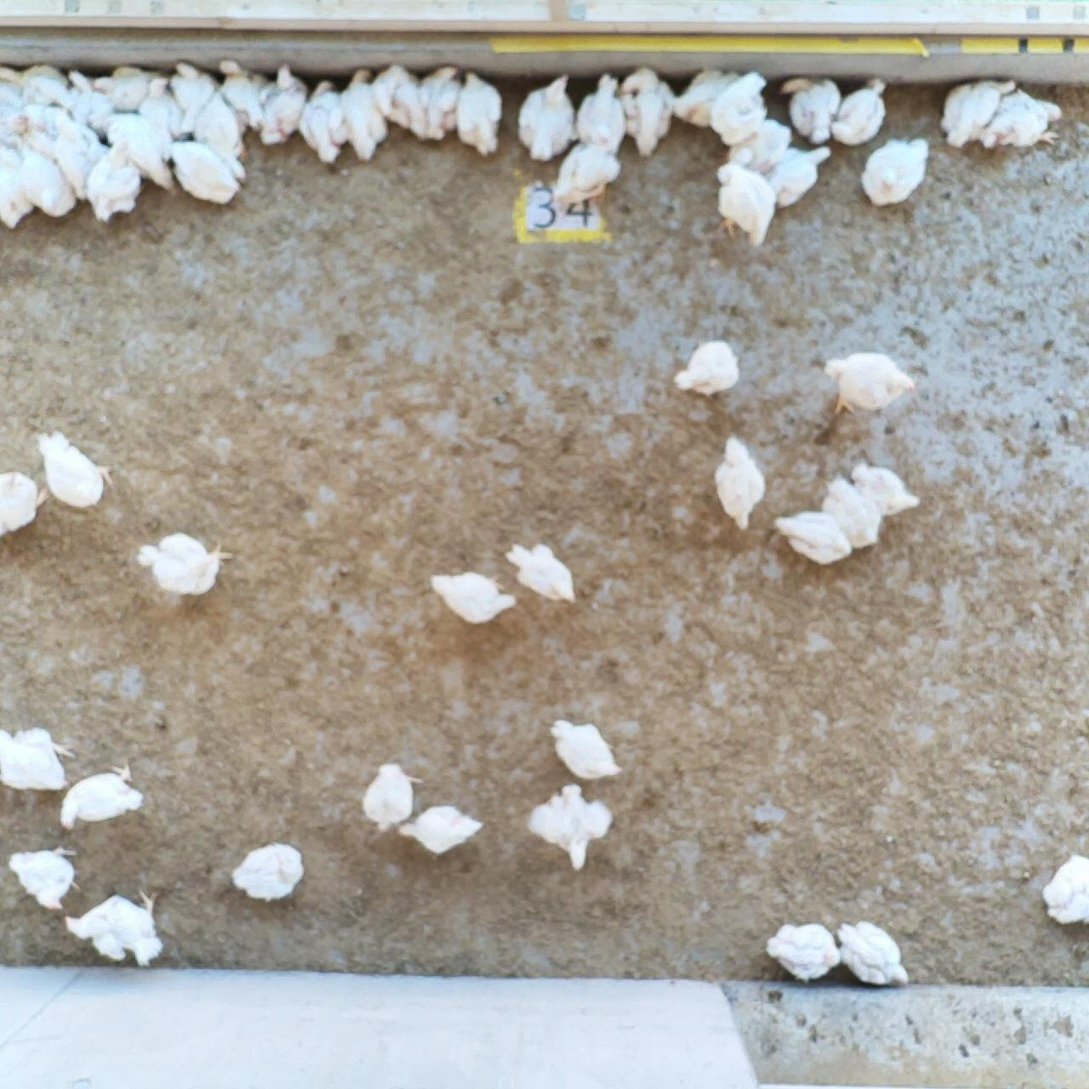chicken: (61, 887, 166, 967), (527, 783, 617, 875), (819, 349, 919, 417), (134, 530, 234, 598), (33, 428, 115, 510), (56, 760, 145, 833), (84, 124, 144, 226), (514, 71, 579, 164), (938, 75, 1018, 150), (104, 111, 178, 192), (547, 134, 623, 212), (50, 104, 110, 199), (192, 89, 252, 184), (716, 160, 779, 250), (980, 86, 1067, 151), (833, 920, 912, 991), (711, 434, 767, 533), (333, 66, 390, 162), (14, 138, 79, 222), (1, 724, 76, 794), (7, 844, 83, 913), (858, 135, 930, 207), (168, 140, 244, 208), (429, 569, 519, 626), (618, 65, 672, 158), (758, 142, 834, 208), (254, 60, 308, 150), (776, 71, 843, 143), (549, 717, 624, 781), (766, 922, 843, 984), (505, 539, 578, 604), (772, 508, 852, 567), (394, 802, 486, 853), (229, 841, 305, 902), (361, 761, 424, 834), (372, 61, 429, 141), (573, 71, 625, 158), (852, 456, 922, 520), (823, 472, 881, 549), (708, 71, 769, 144), (671, 66, 745, 125), (827, 75, 887, 145), (456, 69, 504, 156), (298, 77, 342, 167), (727, 115, 793, 175), (675, 339, 742, 398), (1041, 852, 1089, 932), (168, 59, 219, 134), (219, 56, 269, 132), (93, 65, 167, 115), (1, 137, 39, 228), (419, 65, 465, 140), (1, 470, 45, 545), (65, 67, 112, 136), (1, 102, 61, 156), (140, 75, 185, 147), (1, 62, 70, 92), (23, 100, 61, 136), (1, 83, 23, 128)
